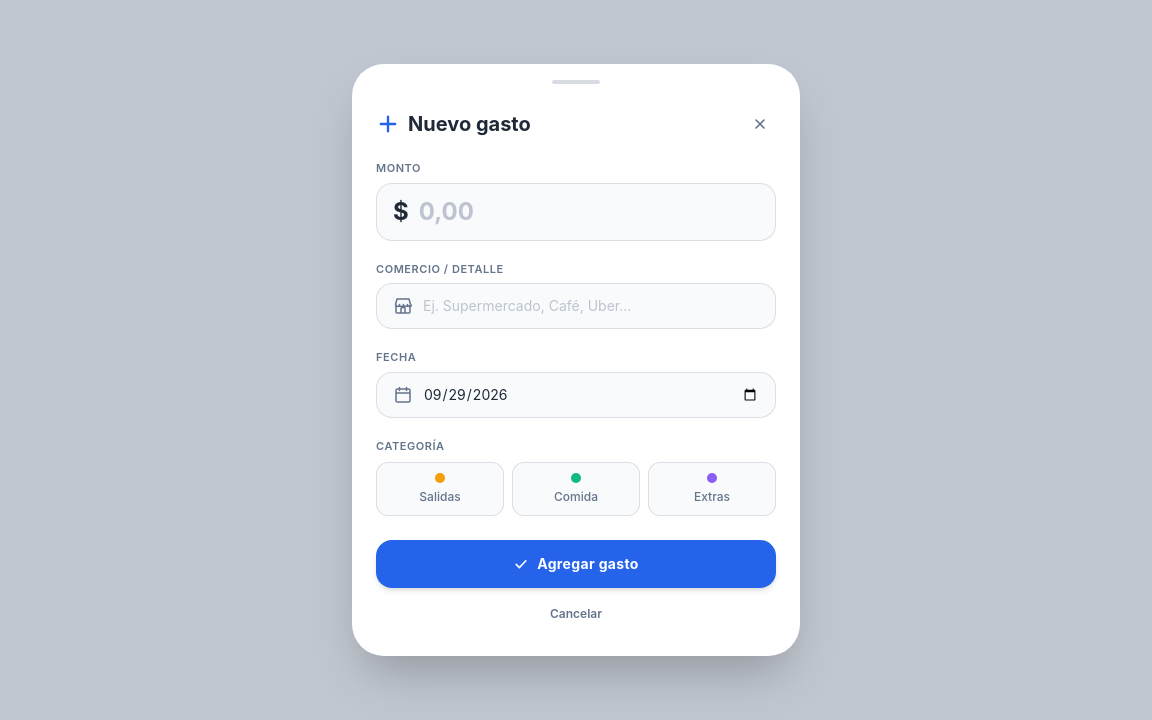
Scenario: ModalNuevoGasto — errores inline (Req. 3.1, 3.2, 3.3) › con un error de monto inválido, lo muestra inline y no cierra el modal
Step 1. Click the button with test id "guardar-nuevo-gasto" → [576, 564], box [376,540,776,588]
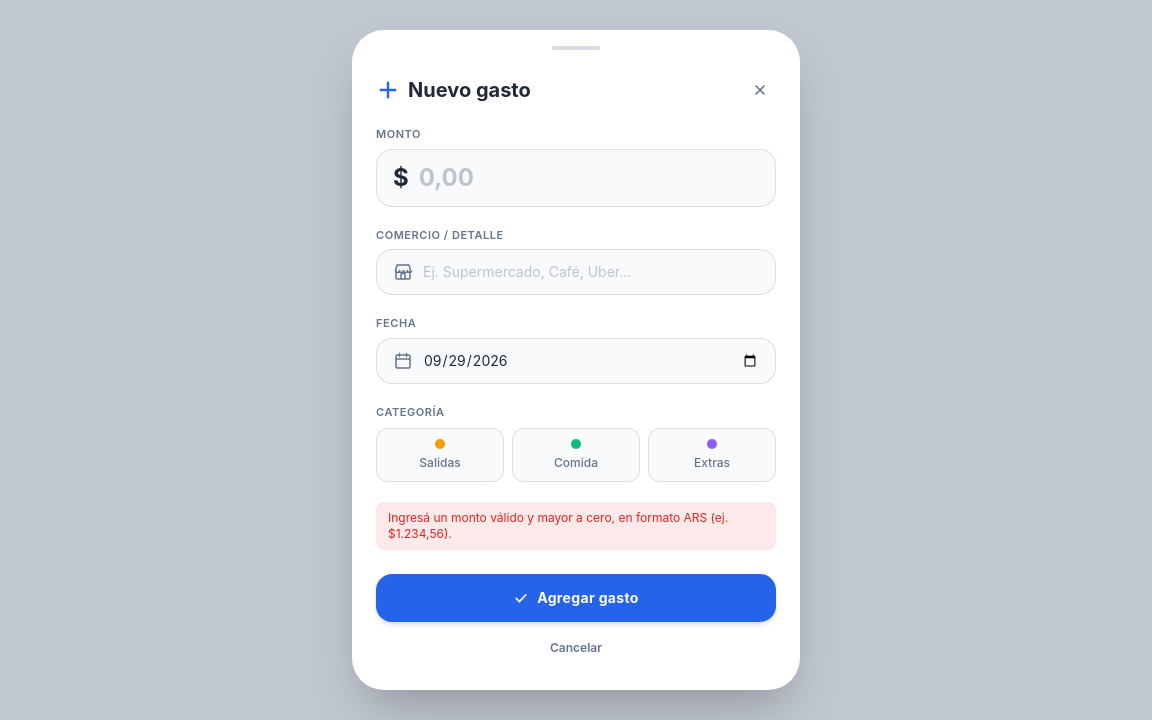
Expected: the form with test id "modal-nuevo-gasto" is shown, [352,30,800,690]
Now the text with test id "error-nuevo-gasto" reads "Ingresá un monto válido y mayor a cero, en formato ARS (ej. $1.234,56).", box [388,510,728,541]
